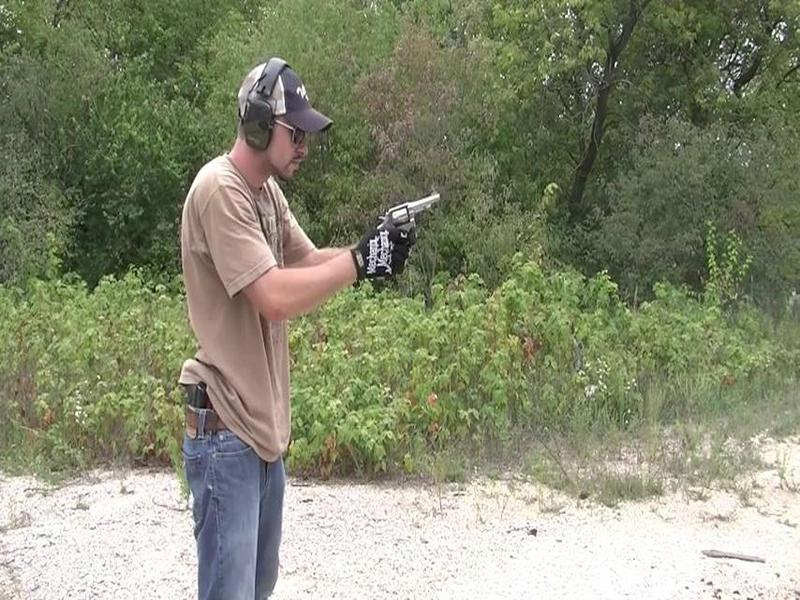Revolver: (372, 188, 445, 259)
